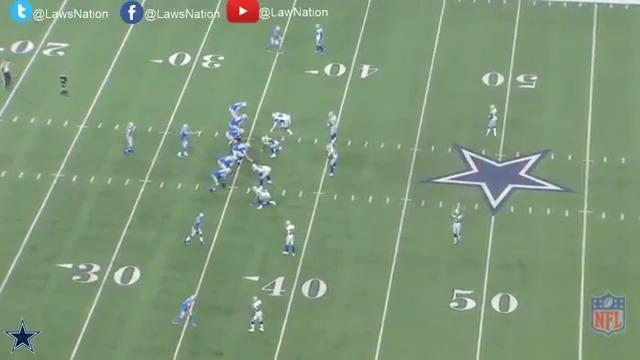defense: (248, 296, 268, 335), (449, 207, 467, 249), (252, 185, 278, 212), (281, 220, 298, 259), (483, 104, 501, 139), (270, 111, 294, 137), (311, 23, 328, 59), (324, 142, 339, 179), (263, 136, 284, 161), (325, 112, 340, 146), (253, 163, 276, 185)
oline: (208, 167, 233, 193), (231, 142, 255, 169), (226, 126, 244, 152), (215, 154, 239, 173), (230, 114, 250, 130)
qb: (177, 122, 192, 162)
ref: (0, 59, 14, 92)
skill: (170, 294, 200, 331), (182, 211, 206, 248), (123, 119, 139, 161), (267, 25, 285, 57), (228, 99, 250, 120)
